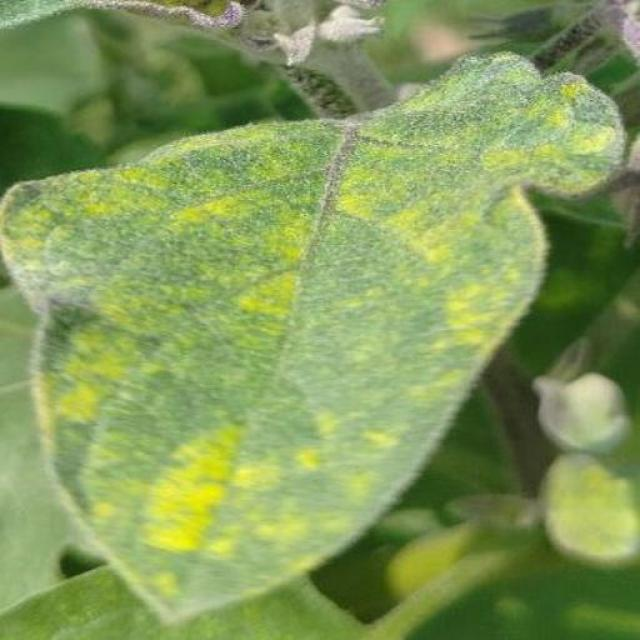leaf_spot: (63, 574, 365, 640), (140, 390, 242, 572), (513, 62, 628, 192), (76, 7, 212, 107), (88, 249, 212, 347), (426, 245, 544, 346), (524, 356, 640, 456), (46, 309, 137, 429), (142, 139, 299, 205), (241, 217, 326, 335), (540, 457, 640, 555), (363, 518, 485, 594), (403, 10, 533, 72), (340, 582, 476, 640), (364, 199, 479, 264), (246, 502, 332, 571), (2, 189, 62, 275), (72, 170, 185, 213), (468, 131, 568, 179), (407, 357, 496, 408), (174, 185, 279, 228), (554, 590, 639, 640), (58, 89, 120, 156), (341, 143, 384, 235), (221, 435, 287, 493), (217, 110, 304, 152), (284, 414, 327, 478), (385, 85, 470, 116), (77, 430, 125, 484), (499, 575, 541, 636), (335, 460, 375, 516), (357, 416, 402, 456), (150, 561, 180, 620)
